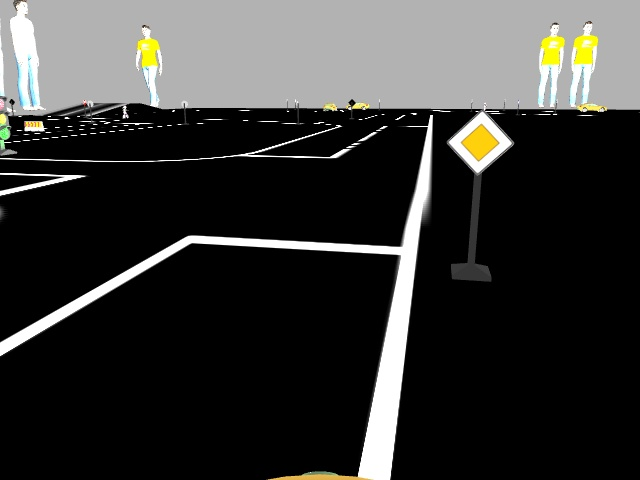ClosedRoadStand: (25, 119, 45, 132)
Priority: (444, 110, 512, 174)
